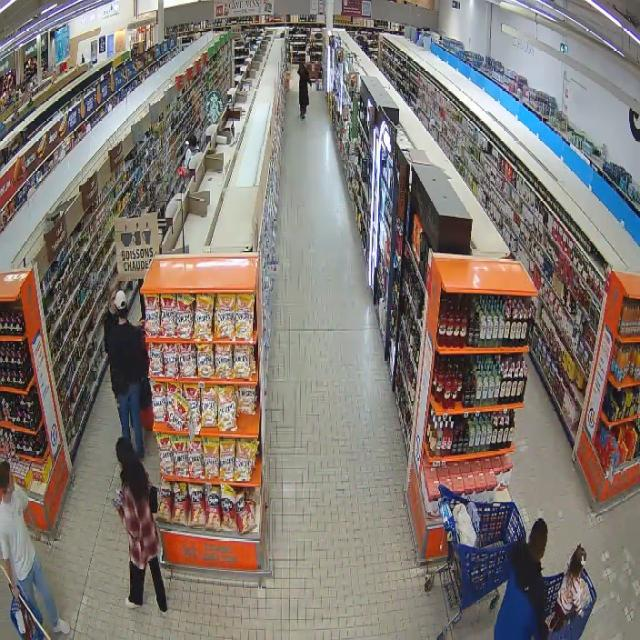bags: (150, 485, 158, 514)
hands: (11, 584, 19, 599), (34, 528, 41, 540)
person: (0, 461, 69, 634), (115, 438, 167, 612), (108, 290, 147, 457), (494, 519, 548, 639), (549, 545, 589, 631), (298, 62, 311, 118)
